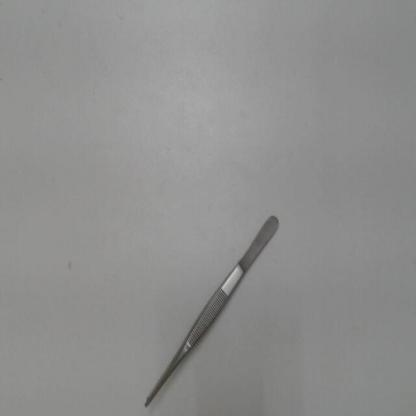Gillies Toothed Dissector: (141, 204, 289, 410)
